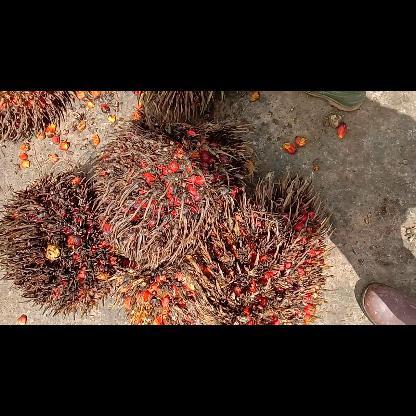Terlalu masak: (89, 113, 260, 279), (195, 164, 337, 324), (0, 167, 138, 321), (108, 244, 230, 324)
